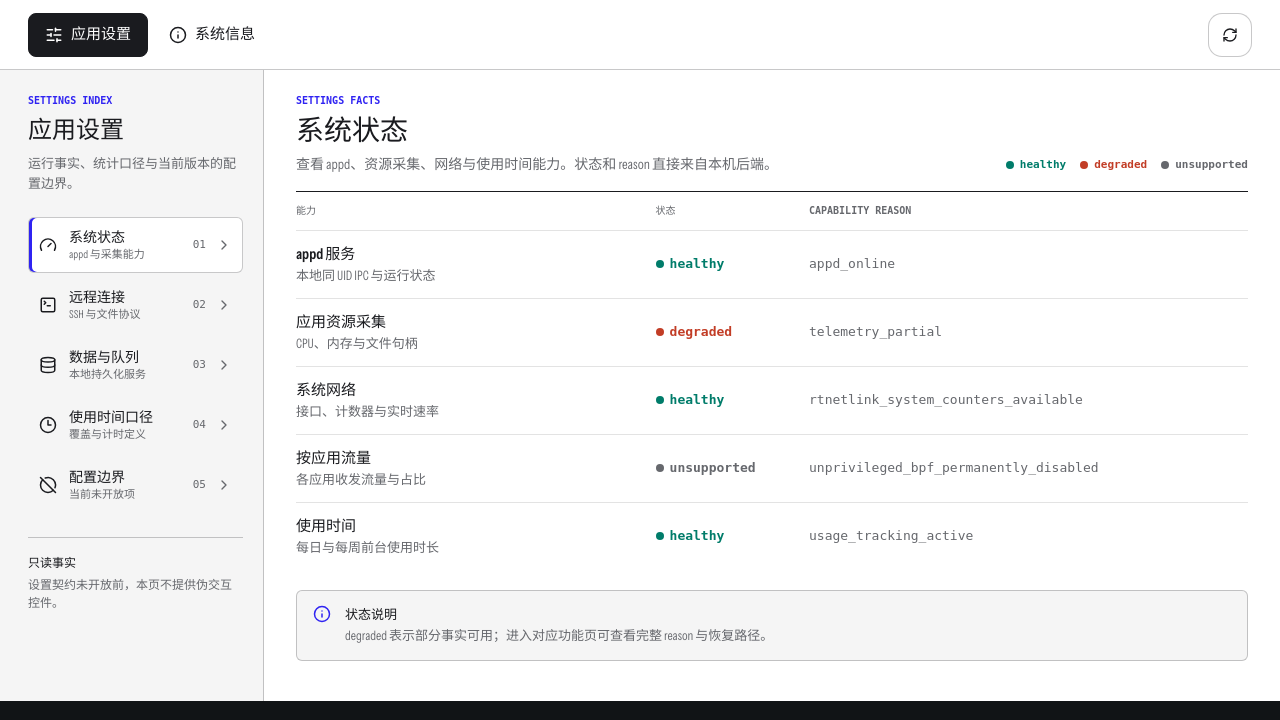
it: SettingsView › groups backend capability facts into system, remote and data sections
Check: the number of rows with class "settings-row" is 5, box [296,230,1248,298]; [296,298,1248,366]; [296,366,1248,434]; [296,434,1248,502]; [296,502,1248,570]
Click the tab "远程连接 SSH 与文件协议 02". click: (136, 305)
box: [28,277,243,333]
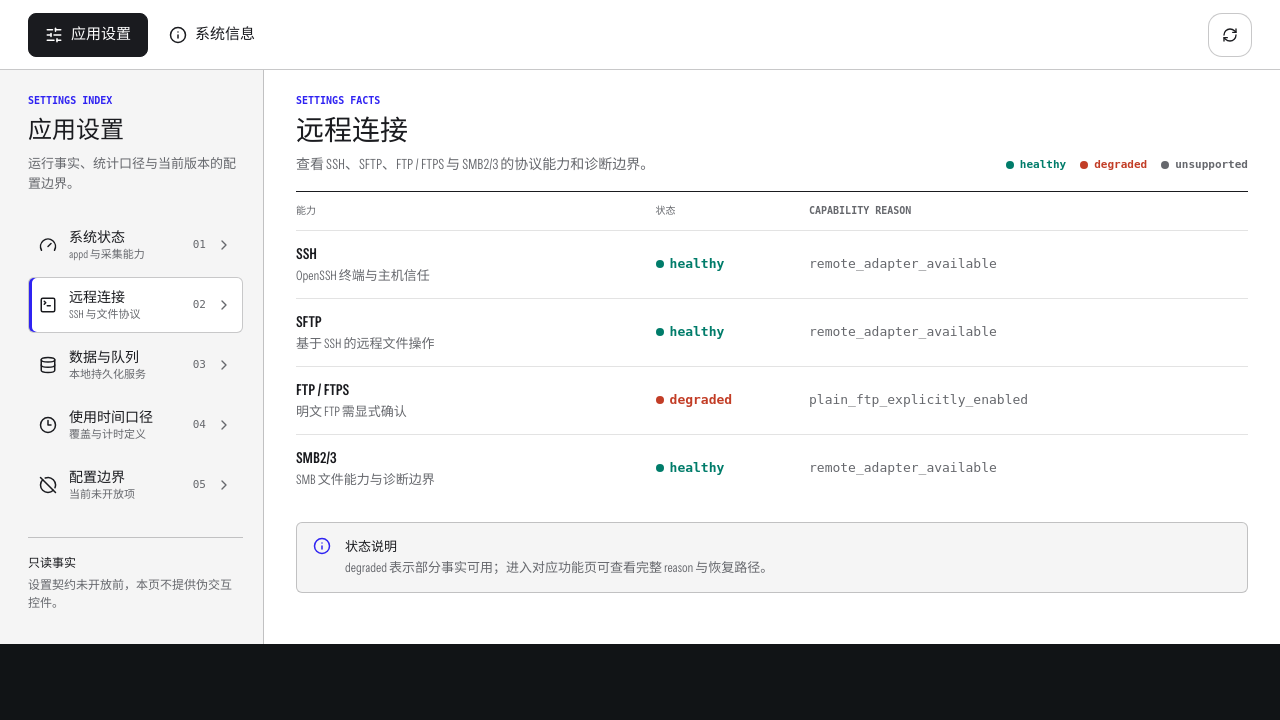
Check: the text "SMB2/3" is shown, box [296,155,654,173]
Check: the text "plain_ftp_explicitly_enabled" is shown, box [809,392,1028,407]
Check: the number of rows with class "settings-row" is 4, box [296,230,1248,298]; [296,298,1248,366]; [296,366,1248,434]; [296,434,1248,502]
Click the tab "数据与队列 本地持久化服务 03". click: (136, 365)
box: [28,337,243,393]
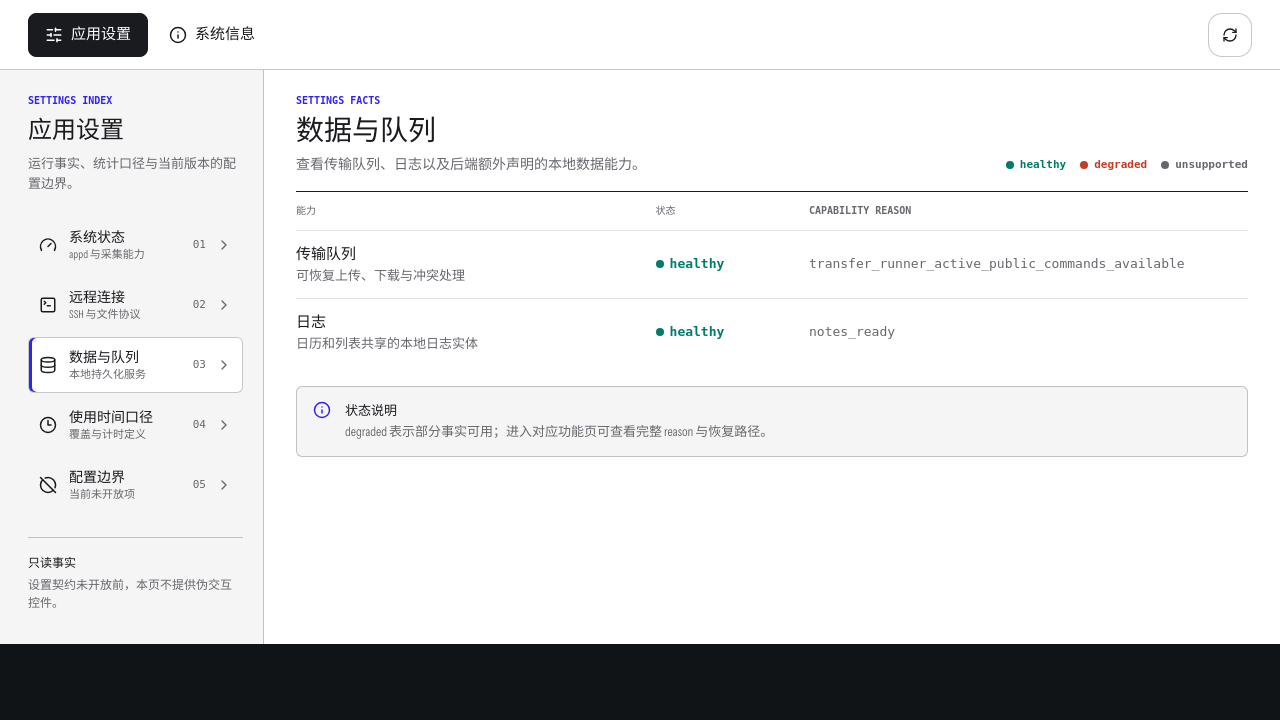
Check: the text "传输队列" is shown, box [296,155,646,173]
Check: the text "日志" is shown, box [296,154,646,175]
Check: the number of rows with class "settings-row" is 2, box [296,230,1248,298]; [296,298,1248,366]
